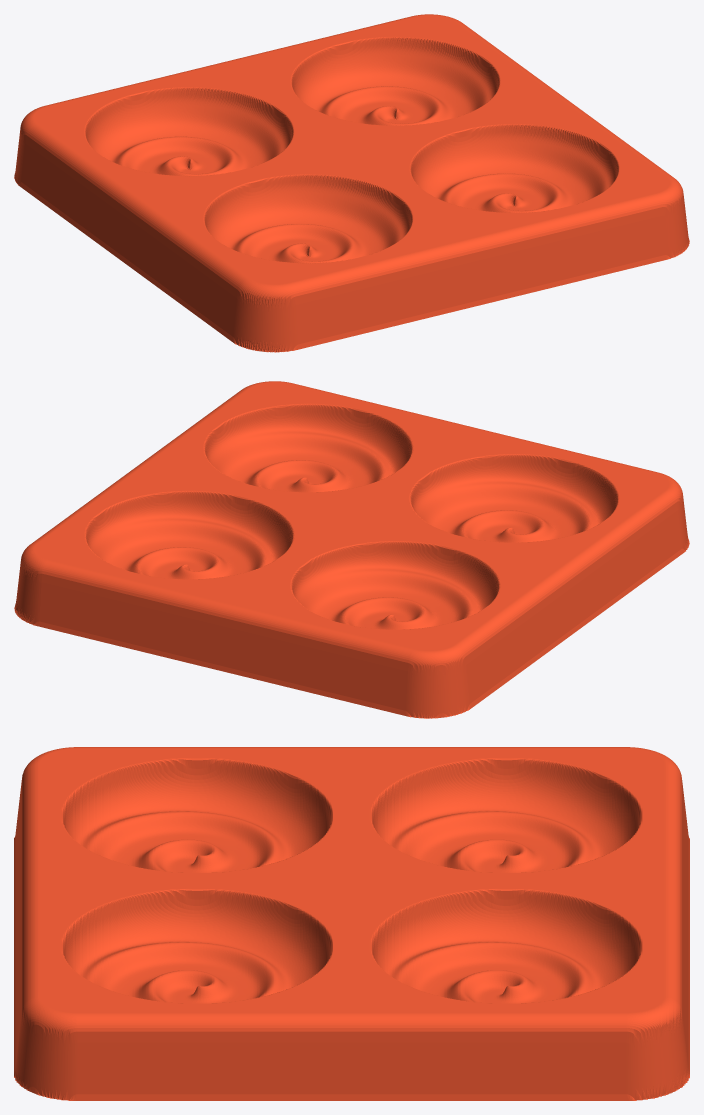
Rendered from mold.glb.
The picture shows the model from 3 angles, top to bottom: view 1: azimuth 30°, elevation 25°; view 2: azimuth 150°, elevation 25°; view 3: azimuth 270°, elevation 25°; orthographic projection. The views are drawn at different scales.
Parts seen in each view (by area): view 1: geometry_0; view 2: geometry_0; view 3: geometry_0.
Part boxes in pixels (x1,y1,x2,y2): geometry_0: [14, 14, 689, 352]; geometry_0: [14, 381, 689, 718]; geometry_0: [14, 747, 689, 1100].
Size of the model in its own units: 0.0962 by 0.0121 by 0.0962.
